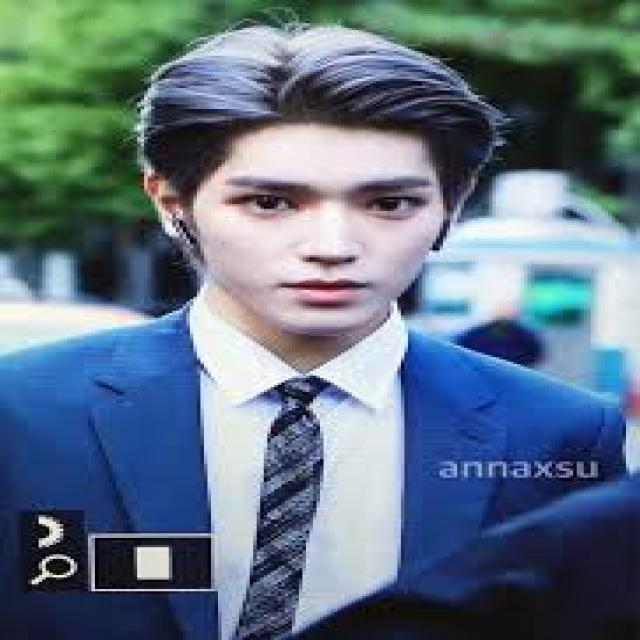earphone: (130, 165, 215, 280)
